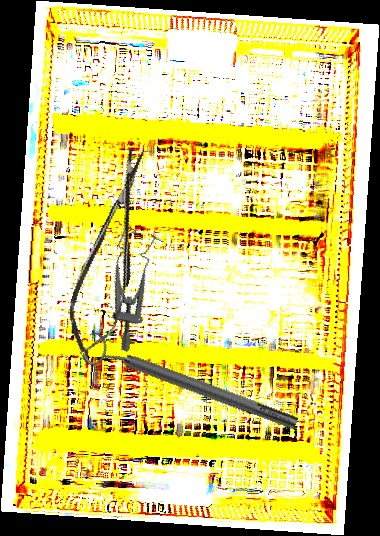Fixation Ring: (79, 328, 303, 442)
Micro Scissor: (56, 142, 168, 362)
Speculum: (82, 224, 174, 353)
